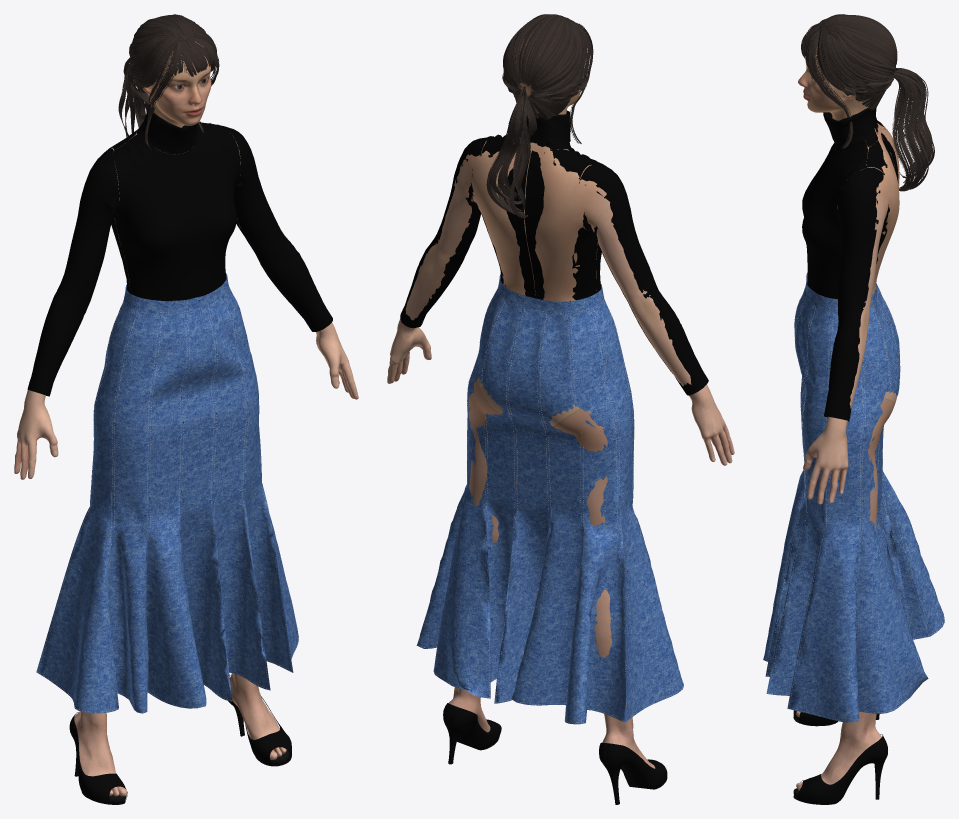
3 views of the same model, side by side, from view 1: azimuth 30°, elevation 25°; view 2: azimuth 150°, elevation 25°; view 3: azimuth 270°, elevation 25° (orthographic).
Visible parts, largest first — view 1: Cloth, Avatar; view 2: Cloth, Avatar; view 3: Cloth, Avatar.
Part boxes in pixels (left/top/right/bottom): Cloth: left=27, top=102, right=332, bottom=713; Avatar: left=14, top=14, right=358, bottom=804; Cloth: left=400, top=110, right=708, bottom=724; Avatar: left=387, top=14, right=734, bottom=804; Cloth: left=763, top=107, right=944, bottom=722; Avatar: left=793, top=14, right=934, bottom=804.
Size of the model in its own units: 0.7919 by 1.68 by 0.3736.
16 materials, 15 textured.
